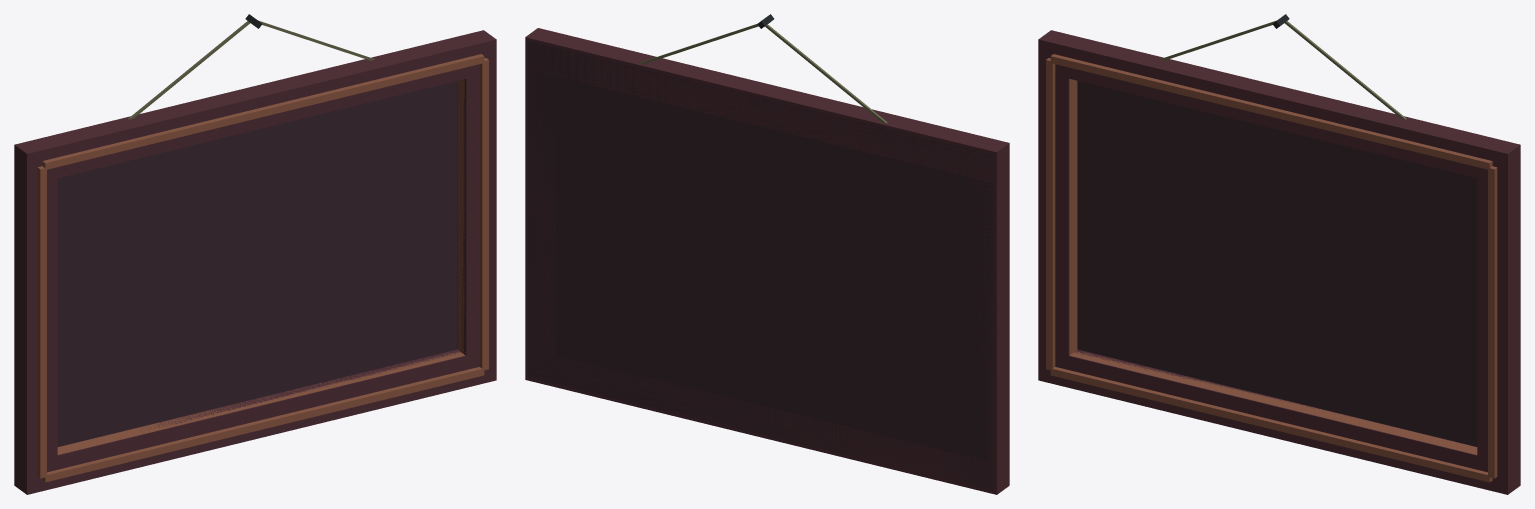
The model's file is rama_lemn.glb.
The picture shows the model from 3 angles, left to right: view 1: azimuth 30°, elevation 25°; view 2: azimuth 150°, elevation 25°; view 3: azimuth 330°, elevation 25°; orthographic projection.
Visible parts, largest first — view 1: RamaLemn; view 2: RamaLemn; view 3: RamaLemn.
Boxes of the visible parts, box(x1,y1,x2,y2) form: RamaLemn: box(14, 14, 496, 494); RamaLemn: box(525, 14, 1009, 494); RamaLemn: box(1038, 14, 1520, 494).
Size of the model in its own units: 0.85 by 0.717 by 0.049.
